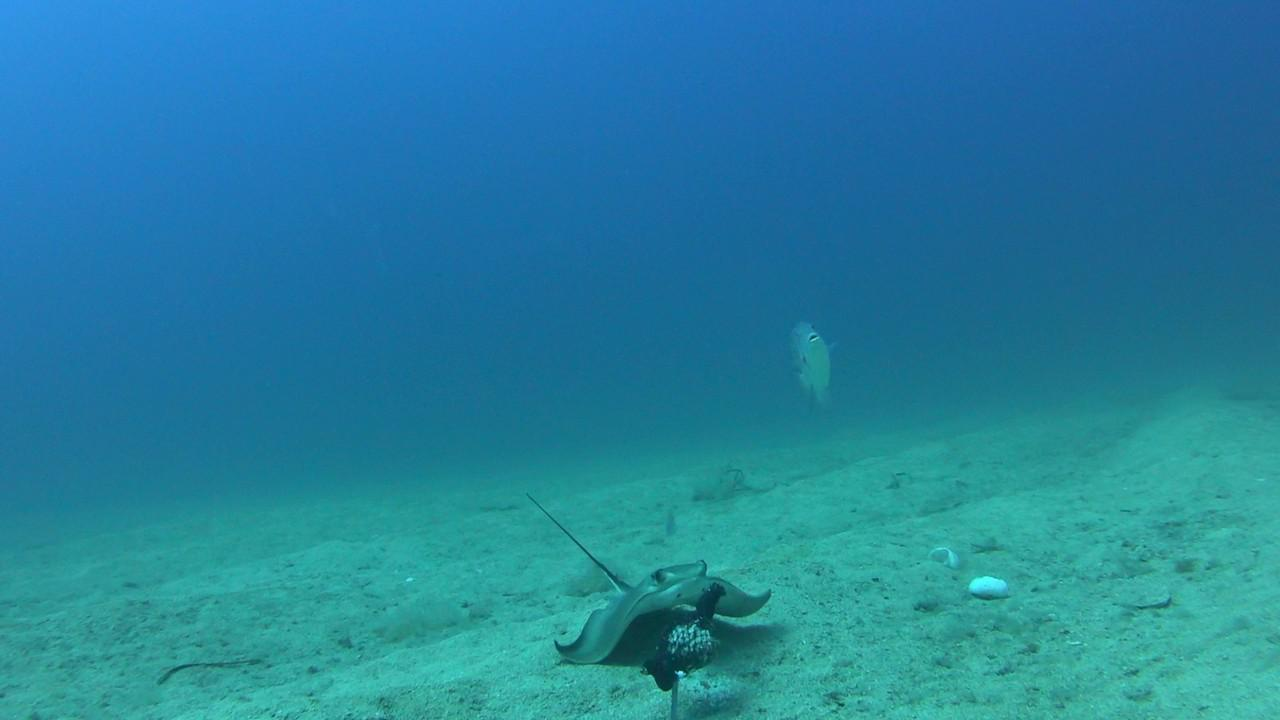balistes: (783, 311, 838, 406)
myliobatis: (492, 481, 789, 648)
